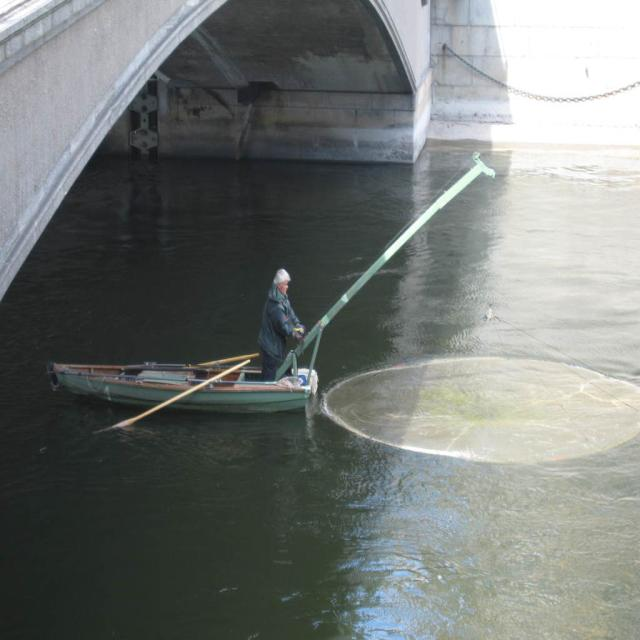Person: (258, 268, 304, 382)
